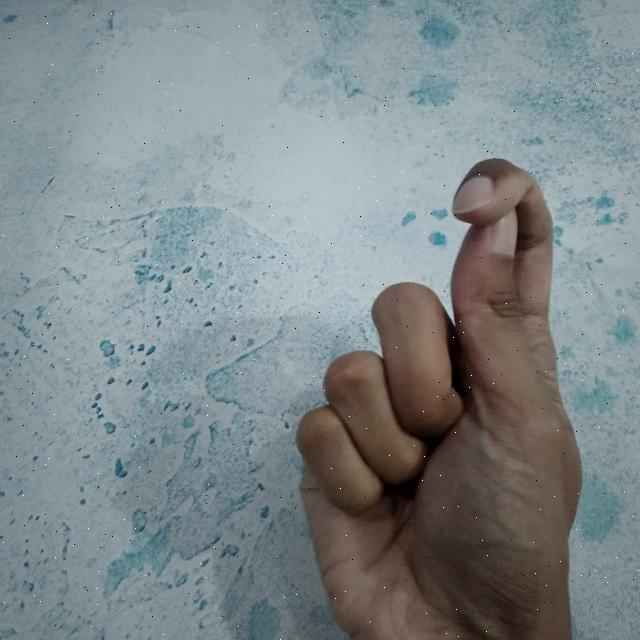T: (290, 152, 589, 640)
